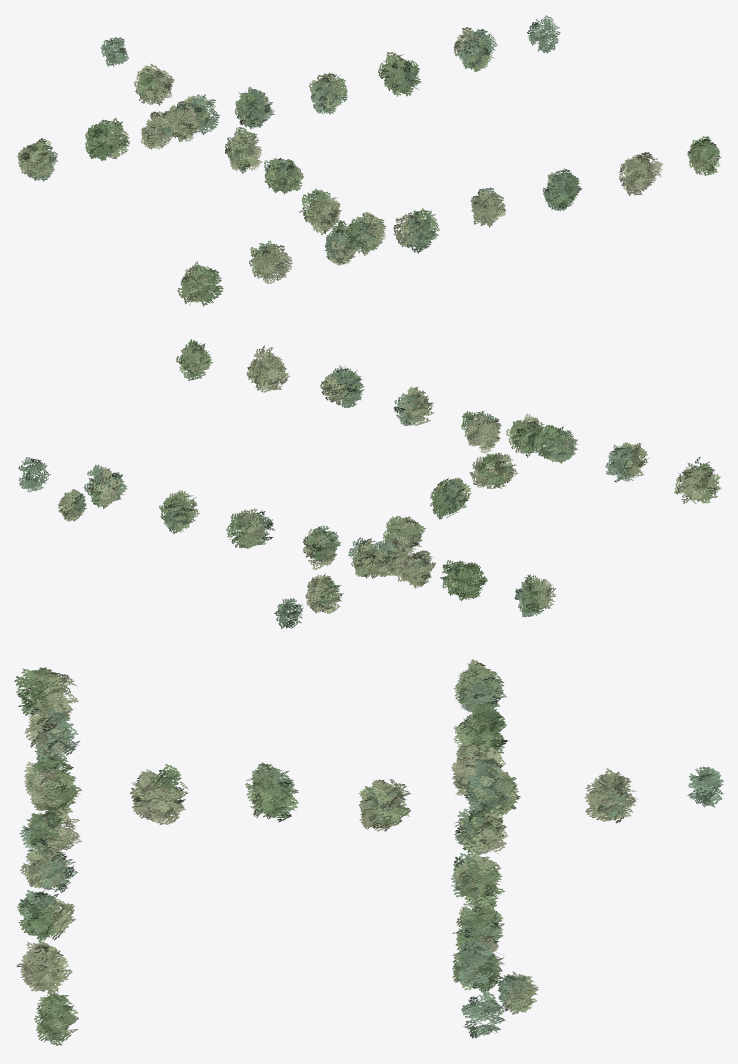
The model's file is campus-tree-2_-1-middle.glb.
3 views of the same model, one above another, from view 1: azimuth 30°, elevation 25°; view 2: azimuth 150°, elevation 25°; view 3: azimuth 270°, elevation 25° (orthographic). The views are drawn at different scales.
Parts seen in each view (by area): view 1: Campus leaf canopy; view 2: Campus leaf canopy; view 3: Campus leaf canopy.
Part boxes in pixels (box(x1,y1,x2,y2)): Campus leaf canopy: box(17, 15, 721, 306); Campus leaf canopy: box(18, 339, 721, 628); Campus leaf canopy: box(14, 659, 723, 1045).
Bounding box in the file's own units: 84.02 × 7.83 × 71.51.
1 material, 1 textured.
